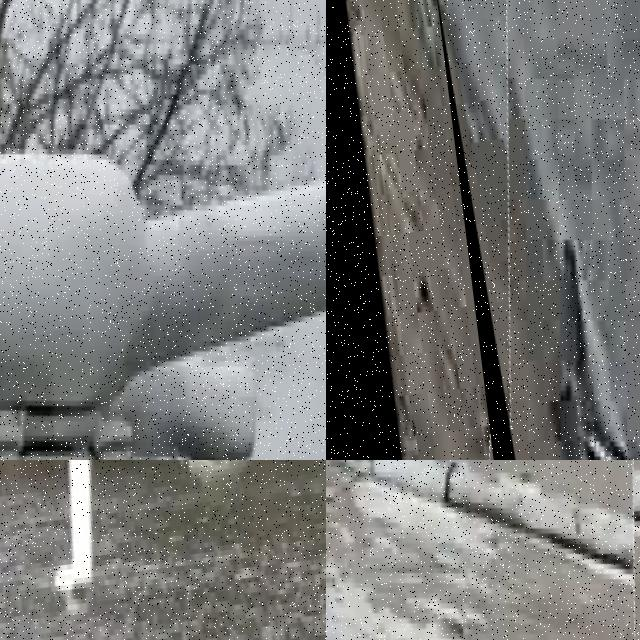0: (433, 0, 640, 460)
drone: (0, 0, 326, 460), (326, 460, 640, 640)
